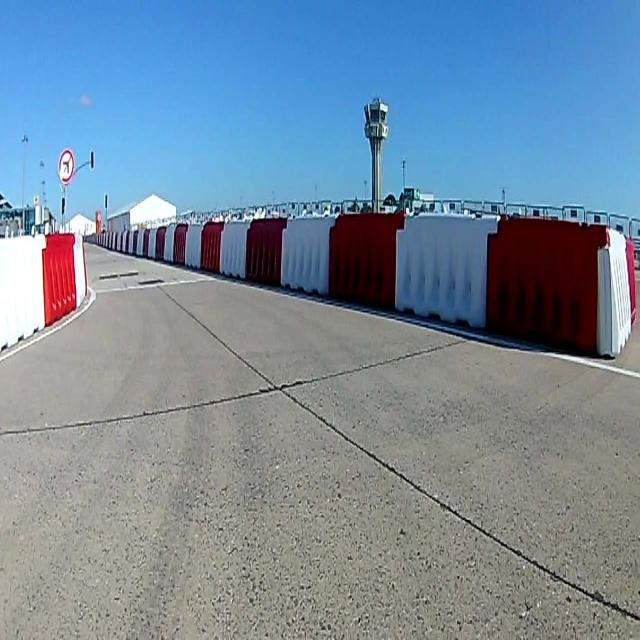soladonulmez: (59, 148, 74, 183)
